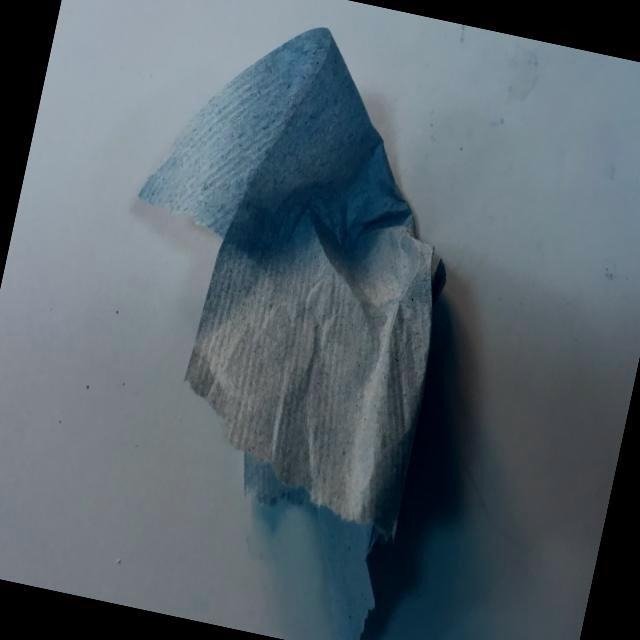paper: (30, 0, 567, 640)
